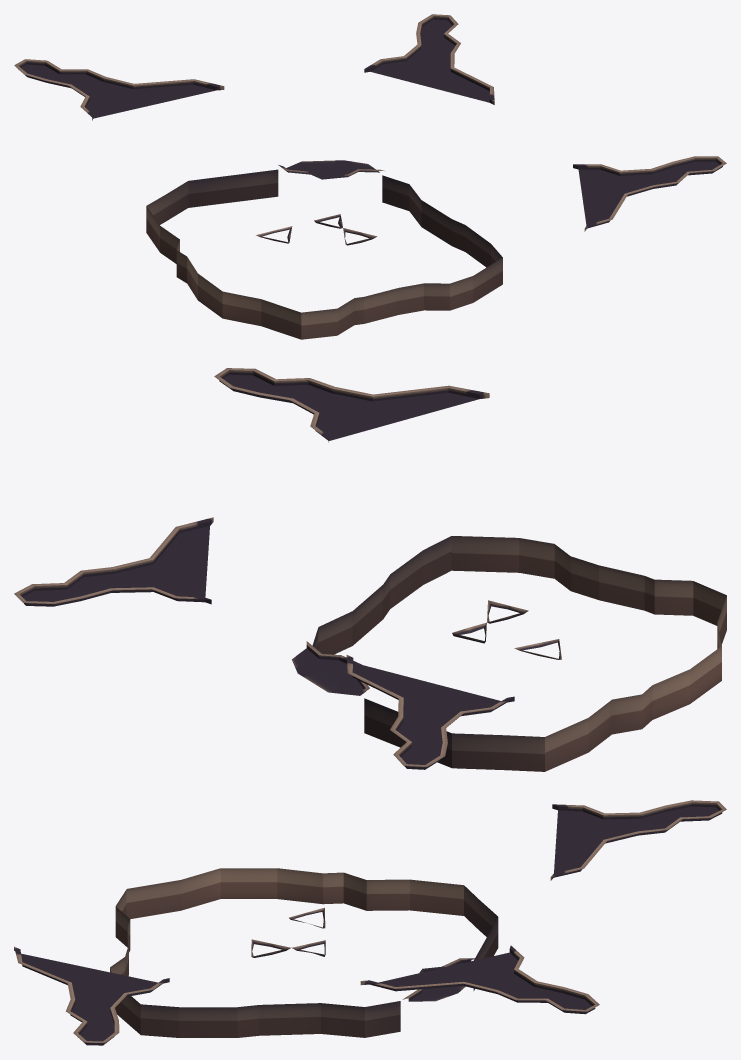
The model's file is Ground_02.FBX.
3 renders of one model, top to bottom at view 1: azimuth 30°, elevation 25°; view 2: azimuth 150°, elevation 25°; view 3: azimuth 270°, elevation 25°, orthographic. The views are drawn at different scales.
Visible parts, largest first — view 1: Ground_02; view 2: Ground_02; view 3: Ground_02.
Part boxes in pixels (x1,y1,x2,y2): Ground_02: (14,14,726,339); Ground_02: (14,368,726,771); Ground_02: (14,800,726,1045).
Size of the model in its own units: 32.77 by 6.38 by 39.93.
